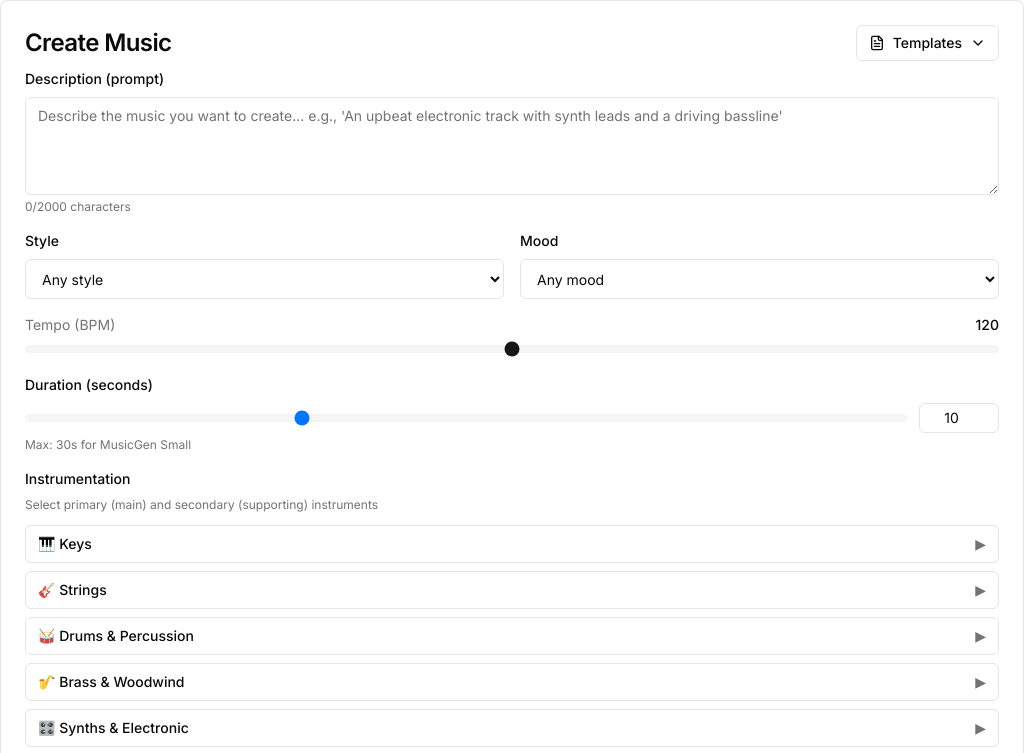
Scenario: PromptEditor › can expand instrument category
Find and click on Keys category
Click the text "🎹 Keys".
click(65, 544)  # box [38, 534, 92, 554]
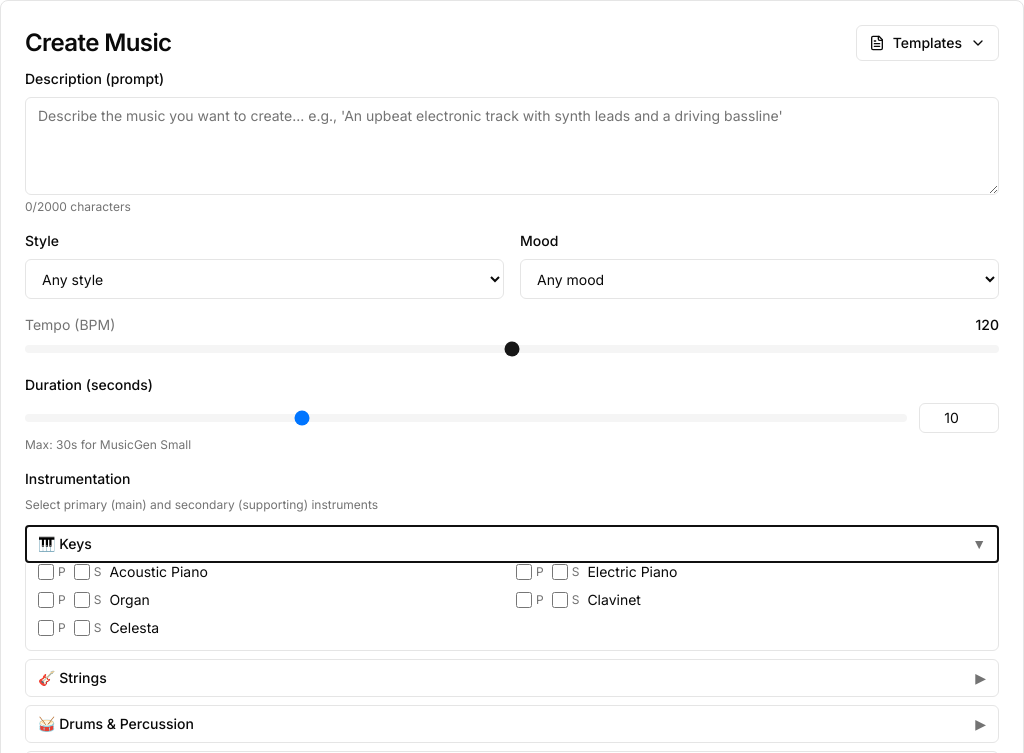
Expected: the text "Acoustic Piano" is shown, [109, 562, 208, 582]
